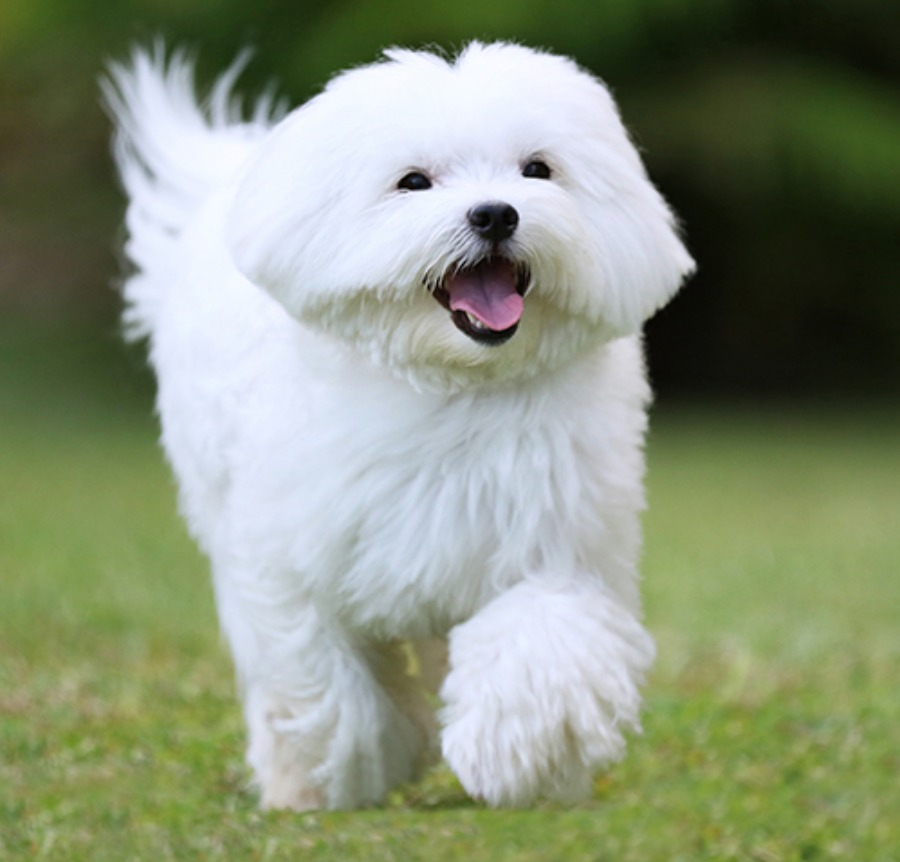dog: (107, 50, 681, 809)
